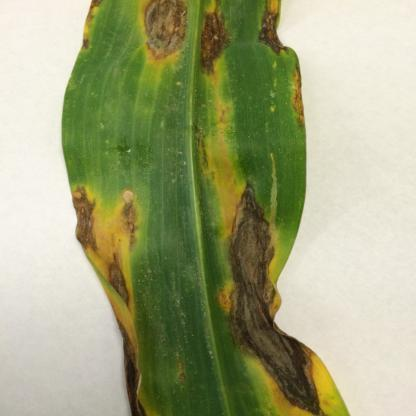Corn leaf blight: (54, 2, 361, 416)
